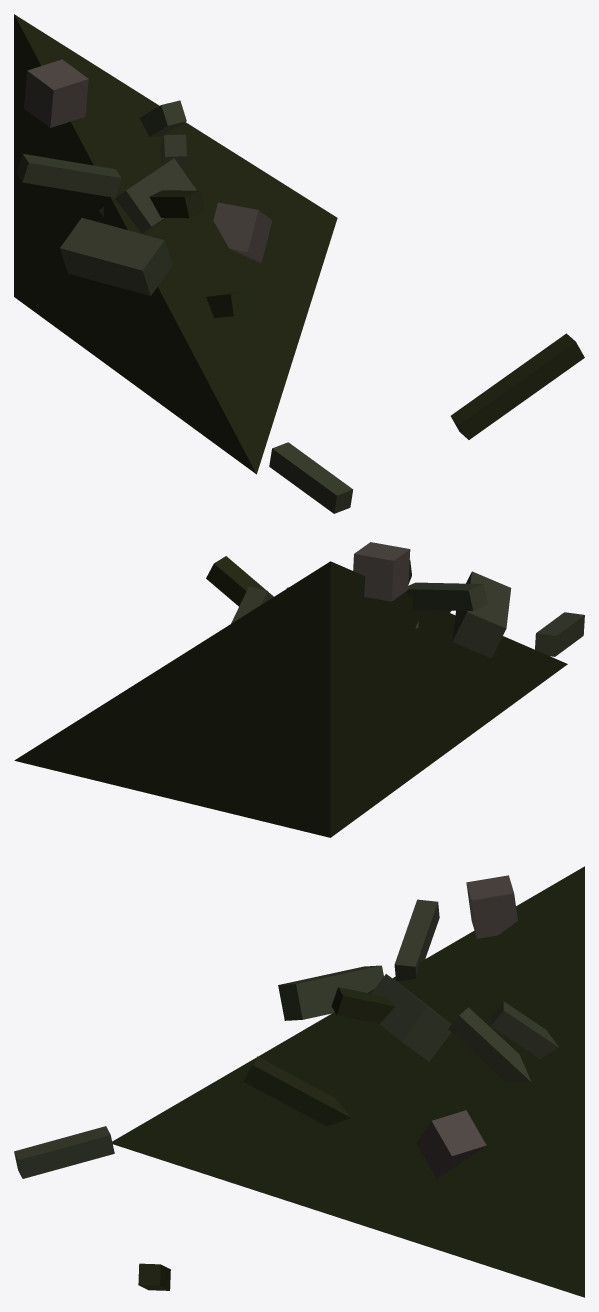
The model's file is SM_PilaZombi_RemateDer_Altura3_s0_LOD1.fbx.
3 renders of one model, top to bottom at view 1: azimuth 30°, elevation 25°; view 2: azimuth 150°, elevation 25°; view 3: azimuth 270°, elevation 25°, orthographic. The views are drawn at different scales.
Parts seen in each view (by area): view 1: SM_pila_zombis_v2_LOD1; view 2: SM_pila_zombis_v2_LOD1; view 3: SM_pila_zombis_v2_LOD1.
Part boxes in pixels (box(x1,y1,x2,y2)): SM_pila_zombis_v2_LOD1: box(14, 14, 584, 513); SM_pila_zombis_v2_LOD1: box(14, 542, 584, 837); SM_pila_zombis_v2_LOD1: box(14, 866, 584, 1297).
Bounding box in the file's own units: 2.65 × 1.92 × 3.18.
